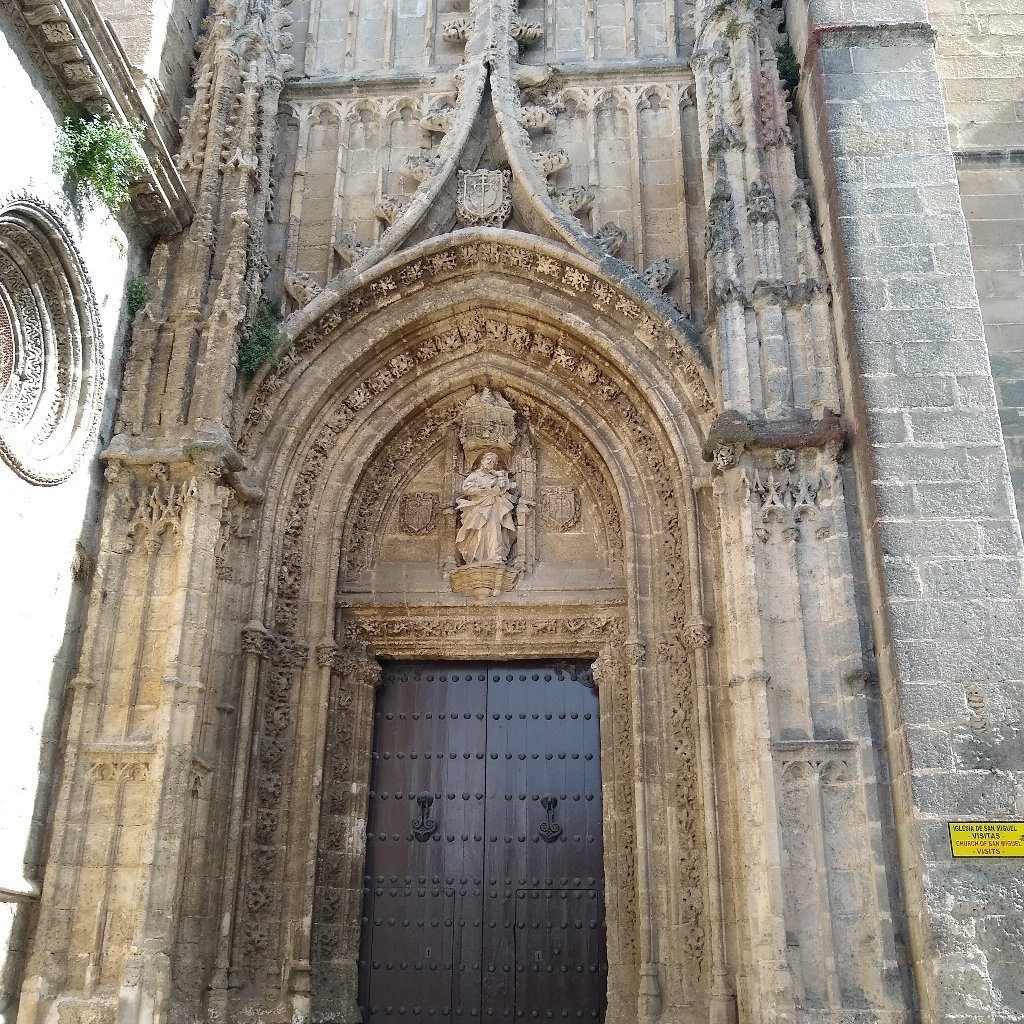arco-apuntado: (266, 260, 684, 589)
arco-conopial: (274, 53, 676, 314)
